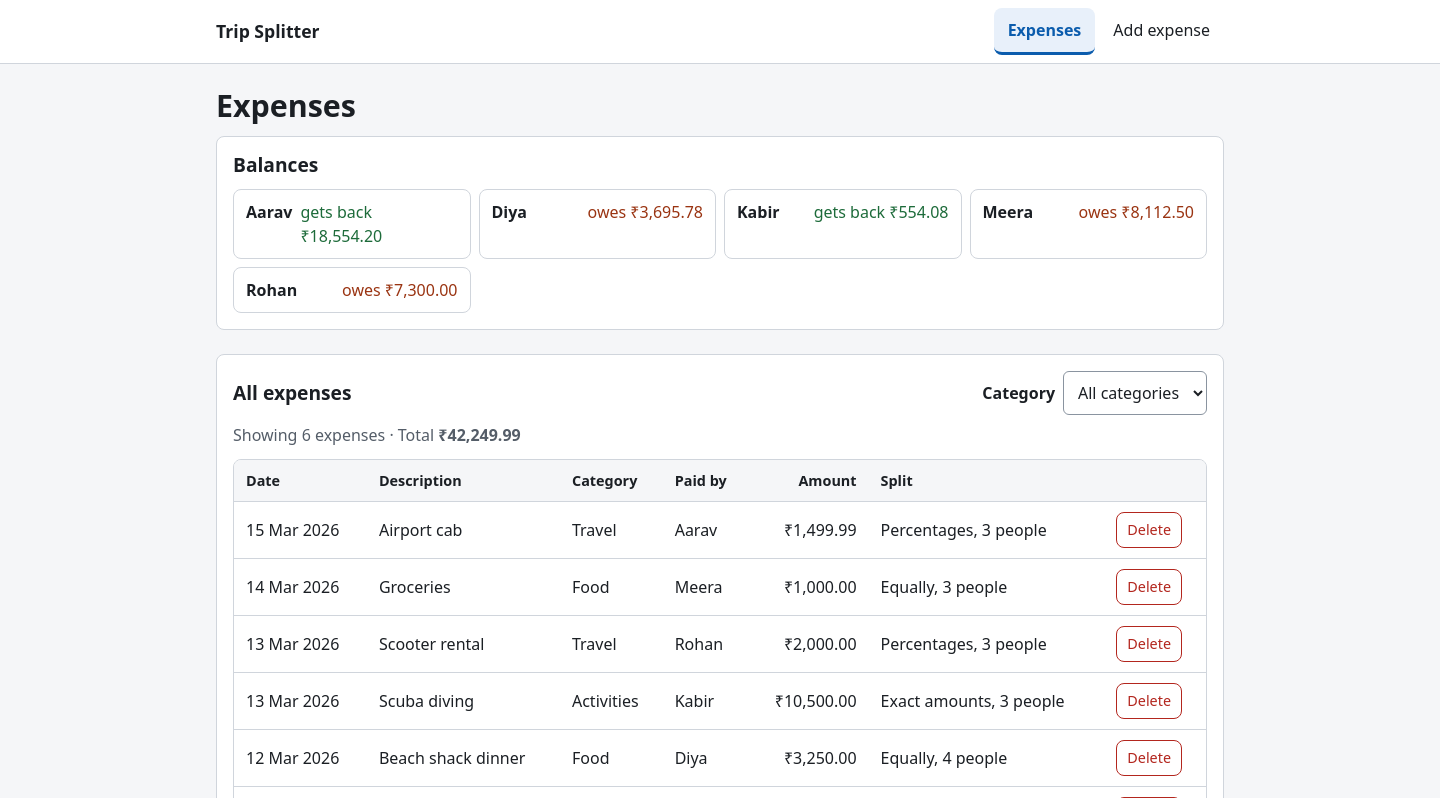
Test case: deleting an expense › removes the expense after confirmation and updates balances straight away
What coordinates should you click on to do the following:
click the button with aria-label "Delete Groceries"
I would click on:
 (1149, 587)
Its box is [1116,569,1182,605].
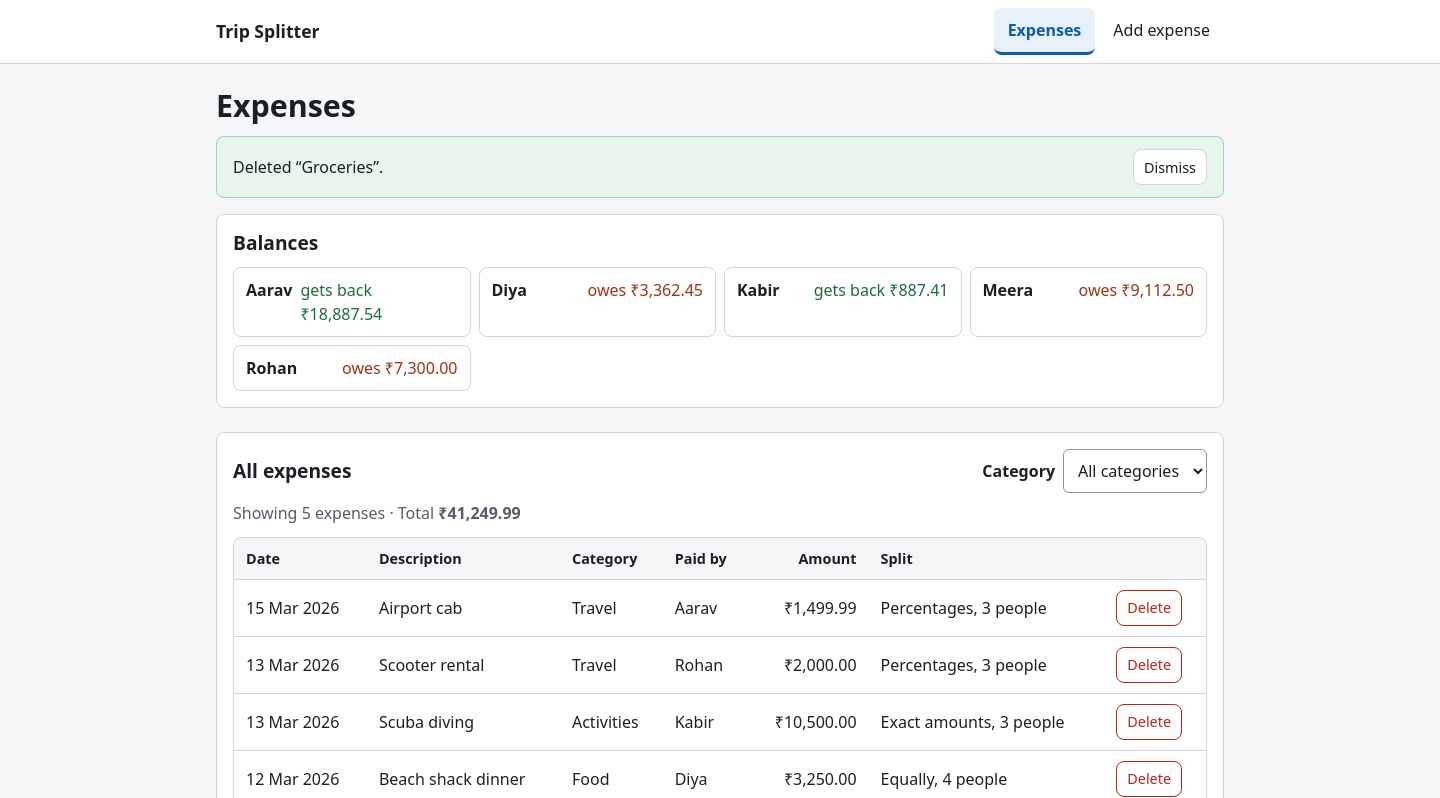
Expected: the message shows "Deleted “Groceries”.", [233,156,383,178]
Expected: the text "owes ₹9,112.50" is shown, [1079,278,1194,300]
